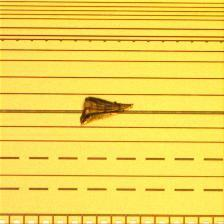PARTICLE: (78, 94, 137, 129)
